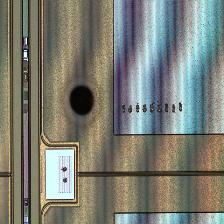PARTICLE: (66, 80, 99, 123)
